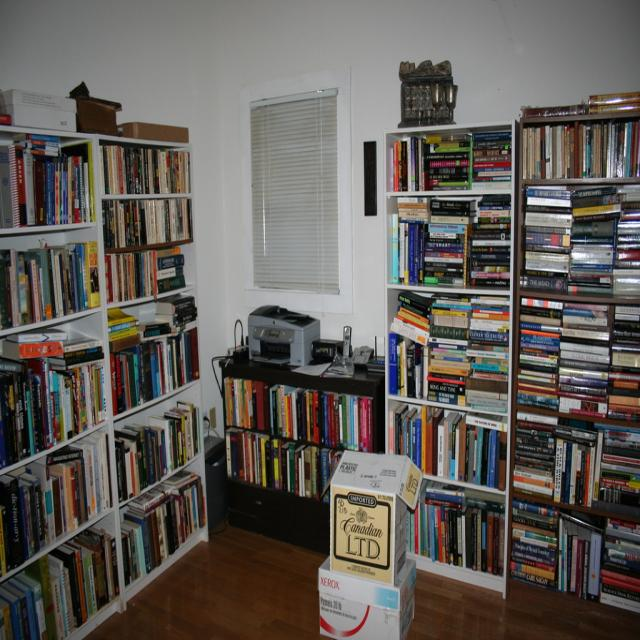Box: (320, 450, 423, 588), (317, 554, 417, 640)
